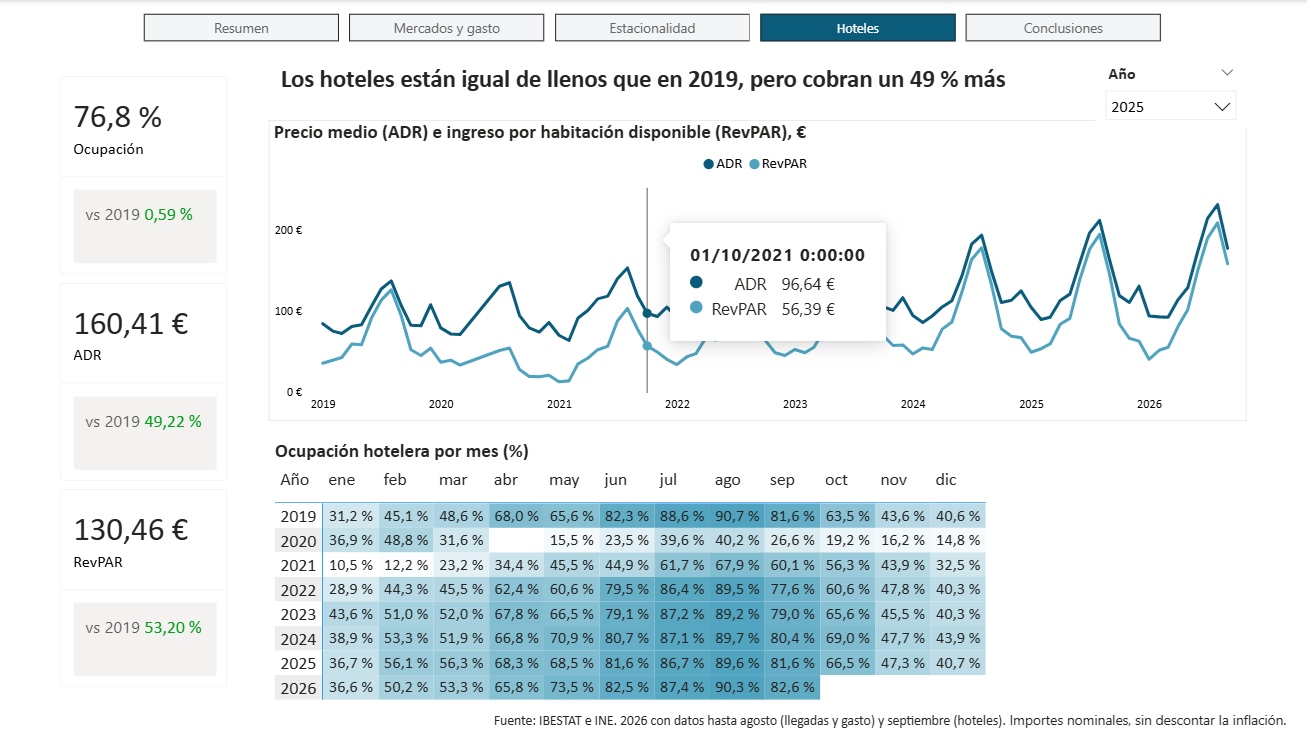

What the dashboard file says about the page in this screenshot:
{"tool":"powerbi","page":{"name":"Hoteles","canvas":[1280,720],"ordinal":3},"visuals":[{"type":"textbox","box":[264.7,58.1,749.5,40.5],"z":0},{"type":"textbox","box":[474,690.1,790,29.7],"z":1000},{"type":"cardVisual","fields":{"Data":["Medidas.Ocupación","Medidas.ADR","Medidas.RevPAR"]},"box":[41.9,58.1,198.5,632],"z":2000},{"type":"lineChart","title":"Precio medio (ADR) e ingreso por habitación disponible (RevPAR), €","fields":{"Category":["DimFecha.Fecha"],"Y":["Medidas.ADR","Medidas.RevPAR"]},"box":[263.3,117.5,956.2,294.4],"z":3000},{"type":"slicer","fields":{"Values":["DimFecha.Año"]},"box":[1070.9,58.1,148.6,68.9],"z":4000},{"type":"pivotTable","title":"Ocupación hotelera por mes (%)","fields":{"Rows":["DimFecha.Año"],"Columns":["DimFecha.Mes"],"Values":["Medidas.Ocupación"]},"box":[264.7,429.5,730.6,260.6],"z":5000},{"type":"pageNavigator","box":[140.5,13.5,999.4,27],"z":6000}]}

Visuals, with their boxes in screenshot pixels (x1, y1, x2, y2), scaled from the page's 1280x720 canvas onto the 1307x735 screenshot:
textbox: select_region(270, 59, 1036, 101)
textbox: select_region(484, 704, 1291, 734)
cardVisual - Medidas.Ocupación x Medidas.ADR: select_region(43, 59, 245, 704)
"Precio medio (ADR) e ingreso por habitación disponible (RevPAR), €" lineChart: select_region(269, 120, 1245, 420)
slicer - DimFecha.Año: select_region(1093, 59, 1245, 130)
"Ocupación hotelera por mes (%)" pivotTable: select_region(270, 438, 1016, 704)
pageNavigator: select_region(143, 14, 1164, 41)
